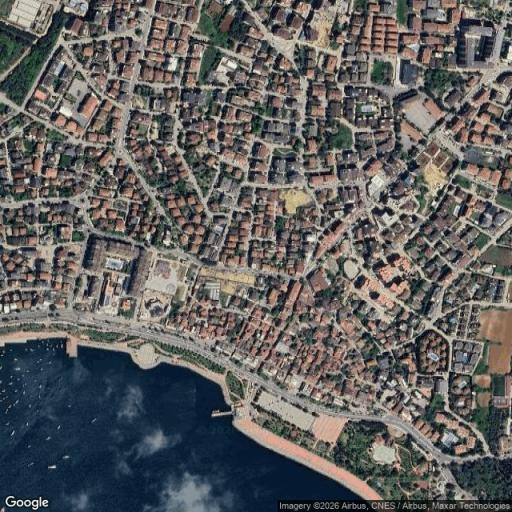ship: (38, 338, 50, 344), (0, 398, 11, 402), (6, 406, 12, 413), (38, 367, 45, 372), (54, 343, 59, 350), (48, 465, 56, 469), (212, 410, 220, 414), (0, 389, 8, 393), (91, 418, 97, 423), (59, 341, 63, 348), (14, 400, 19, 405), (24, 370, 30, 374), (28, 462, 34, 466), (22, 390, 26, 396), (0, 352, 4, 358), (12, 389, 20, 392), (23, 381, 26, 388), (46, 436, 51, 440), (11, 430, 15, 435), (15, 367, 20, 371), (57, 425, 61, 430), (0, 380, 5, 384), (63, 456, 69, 459), (3, 350, 6, 356), (14, 358, 18, 362), (37, 359, 41, 363), (30, 348, 34, 352), (16, 377, 20, 381), (9, 348, 13, 352), (39, 385, 42, 389), (46, 346, 49, 350), (9, 382, 13, 385), (22, 375, 26, 378), (48, 362, 53, 364), (28, 445, 31, 448), (6, 422, 9, 425), (10, 376, 13, 379), (0, 366, 2, 370), (26, 422, 28, 426), (38, 344, 40, 348), (68, 405, 71, 407), (29, 404, 31, 407), (33, 382, 37, 383)
